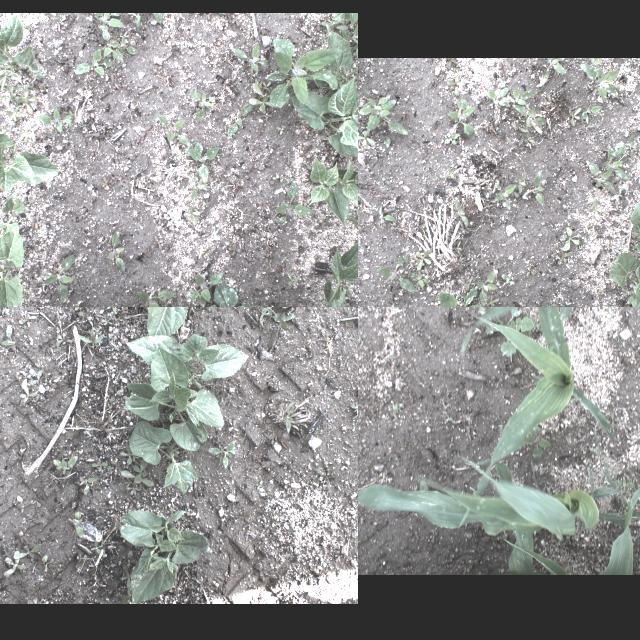crop: (358, 460, 640, 572), (472, 307, 615, 462), (120, 509, 208, 603), (452, 307, 631, 350), (126, 333, 250, 389), (126, 370, 207, 450), (150, 346, 226, 426), (291, 75, 358, 157), (129, 420, 197, 494), (598, 474, 640, 574), (0, 129, 59, 198), (310, 156, 358, 229), (0, 13, 45, 89), (325, 30, 358, 106), (324, 236, 358, 307), (504, 540, 570, 574), (0, 225, 24, 307), (146, 307, 209, 336), (610, 252, 640, 307), (508, 526, 536, 574), (0, 191, 24, 239), (629, 193, 640, 270)
weed: (266, 38, 344, 106), (358, 93, 409, 133), (270, 181, 314, 225), (377, 252, 417, 294), (580, 63, 620, 103), (184, 141, 220, 183), (499, 315, 535, 357), (44, 254, 74, 304), (249, 307, 297, 333), (446, 97, 476, 137), (156, 114, 192, 146), (584, 158, 616, 194), (232, 43, 270, 73), (75, 48, 115, 76), (190, 270, 224, 302), (38, 106, 76, 132), (228, 102, 256, 136), (190, 89, 216, 123), (605, 145, 631, 179), (474, 270, 498, 306), (439, 290, 489, 307), (207, 439, 235, 469), (512, 103, 546, 127), (321, 12, 358, 34), (214, 282, 246, 307), (106, 229, 125, 271), (12, 86, 40, 114), (102, 28, 124, 62), (133, 290, 177, 307), (539, 58, 567, 84), (499, 86, 537, 104), (2, 550, 26, 578), (528, 428, 552, 456), (494, 179, 516, 209), (120, 468, 154, 486), (249, 95, 281, 114), (335, 20, 358, 46), (612, 134, 638, 156), (95, 12, 123, 30), (562, 226, 582, 250), (26, 368, 46, 392), (12, 544, 40, 560), (286, 406, 302, 434), (190, 176, 208, 200), (54, 456, 78, 474), (78, 328, 104, 344), (486, 86, 509, 104), (588, 431, 606, 454), (446, 76, 466, 96), (0, 83, 19, 104), (410, 270, 432, 288), (581, 105, 603, 123), (455, 200, 469, 226), (416, 248, 432, 270), (183, 205, 200, 225), (534, 171, 544, 205), (72, 510, 84, 538), (120, 564, 134, 588), (134, 460, 148, 484), (80, 476, 98, 494), (120, 444, 136, 464), (588, 198, 602, 220), (1, 323, 15, 345), (190, 295, 215, 307), (120, 37, 138, 53), (378, 204, 396, 220), (20, 386, 36, 404), (4, 104, 24, 118), (556, 251, 576, 265), (568, 106, 582, 126), (91, 458, 111, 472), (514, 170, 526, 192), (358, 130, 374, 146), (53, 330, 67, 348), (440, 166, 460, 178), (316, 468, 340, 478), (252, 82, 268, 96), (463, 276, 477, 292), (18, 312, 36, 324), (614, 479, 634, 489), (347, 210, 358, 228), (258, 76, 272, 90), (412, 252, 426, 266), (20, 369, 30, 388), (41, 554, 54, 568), (485, 295, 499, 307), (502, 273, 516, 285), (444, 132, 458, 144), (90, 540, 102, 554), (443, 58, 459, 68), (227, 419, 240, 431), (0, 124, 17, 133), (349, 401, 358, 418), (526, 129, 536, 143), (615, 85, 625, 99), (629, 145, 640, 157), (510, 185, 520, 198), (125, 484, 138, 494), (383, 134, 391, 150), (358, 140, 369, 151), (153, 12, 163, 24), (288, 275, 300, 285), (394, 400, 406, 410), (254, 78, 264, 89), (421, 154, 431, 164), (588, 222, 596, 234), (516, 123, 528, 131), (123, 590, 131, 602), (136, 15, 142, 30), (588, 58, 602, 64), (362, 100, 372, 108), (526, 266, 534, 276), (124, 478, 132, 488), (382, 176, 391, 184), (255, 480, 262, 490), (358, 219, 364, 229), (105, 307, 117, 312), (111, 340, 117, 350), (102, 318, 111, 324), (315, 554, 323, 560), (358, 72, 361, 86), (27, 598, 37, 602), (90, 326, 100, 330), (73, 307, 84, 310), (270, 470, 276, 474), (588, 124, 594, 126)
